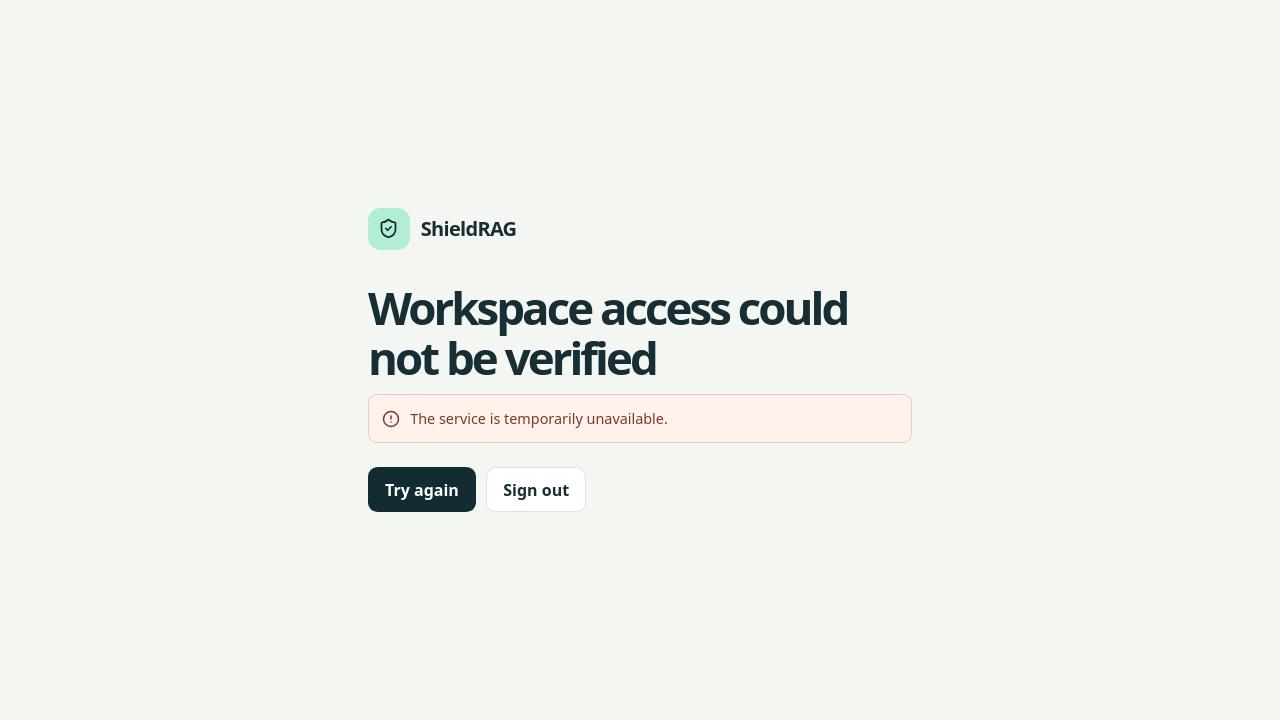
Scenario: profile trust and session changes › handles backend 503 without signing out, and verifies the profile on manual retry
Expected: the message reads "The service is temporarily unavailable.", 410,409 -> 668,428
Expected: the heading "Student dashboard" is not shown
What coordinates should you click on to do the following:
click the button "Try again"
I would click on:
 (422, 490)
Its box is 368,467 -> 476,512.
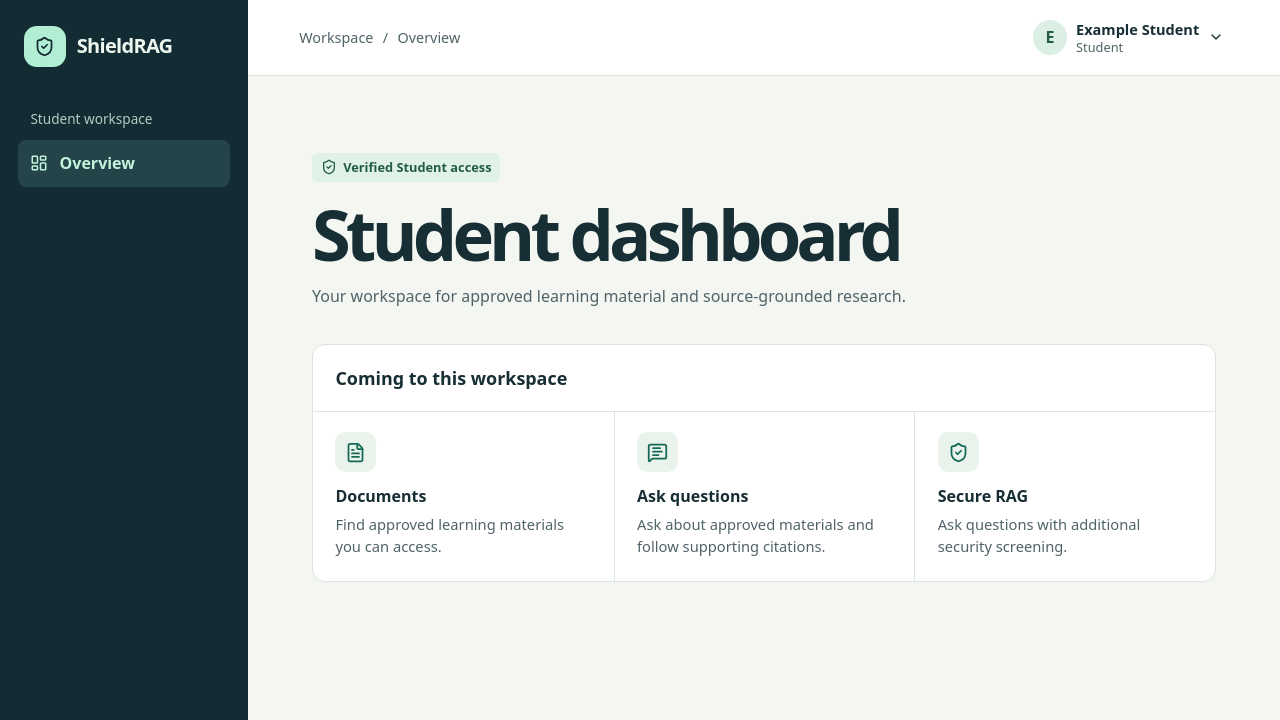
Expected: the heading "Student dashboard" is shown, 312,186 -> 899,282
